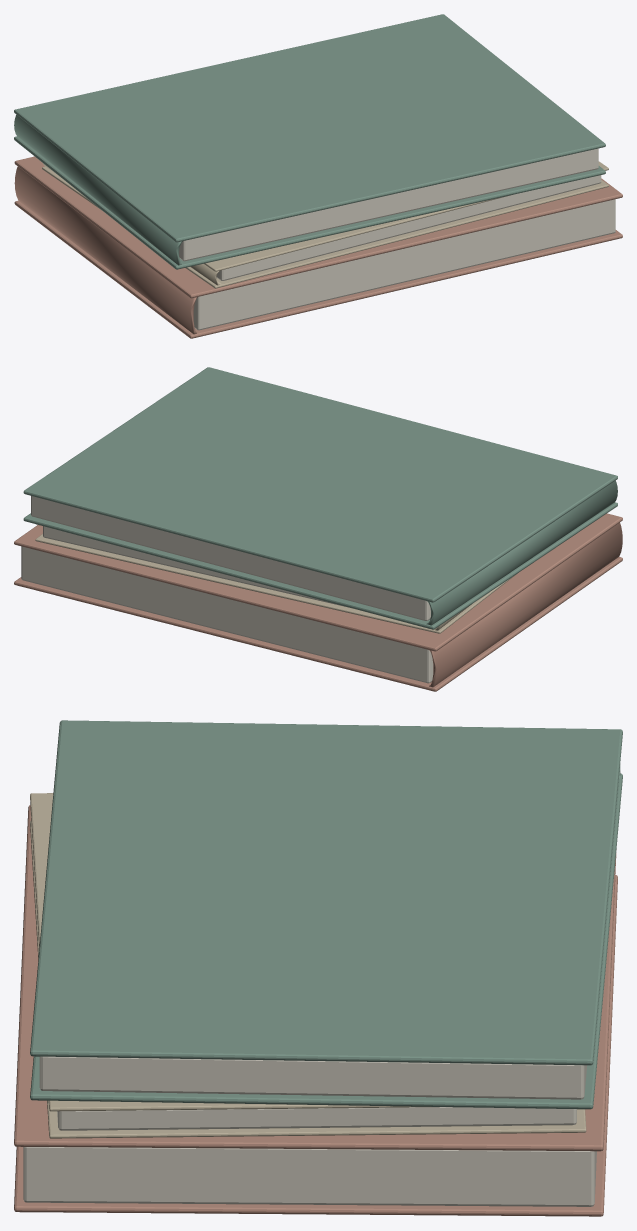
The model's file is book-stack.glb.
The picture shows the model from 3 angles, top to bottom: view 1: azimuth 30°, elevation 25°; view 2: azimuth 150°, elevation 25°; view 3: azimuth 270°, elevation 25°; orthographic projection. The views are drawn at different scales.
Parts seen in each view (by area): view 1: paper-foundation-v1/book-stack; view 2: paper-foundation-v1/book-stack; view 3: paper-foundation-v1/book-stack.
Part boxes in pixels (left/top/right/bottom): paper-foundation-v1/book-stack: left=14, top=14, right=622, bottom=338; paper-foundation-v1/book-stack: left=14, top=367, right=622, bottom=691; paper-foundation-v1/book-stack: left=14, top=720, right=622, bottom=1216.
Size of the model in its own units: 0.3124 by 0.064 by 0.2323.
